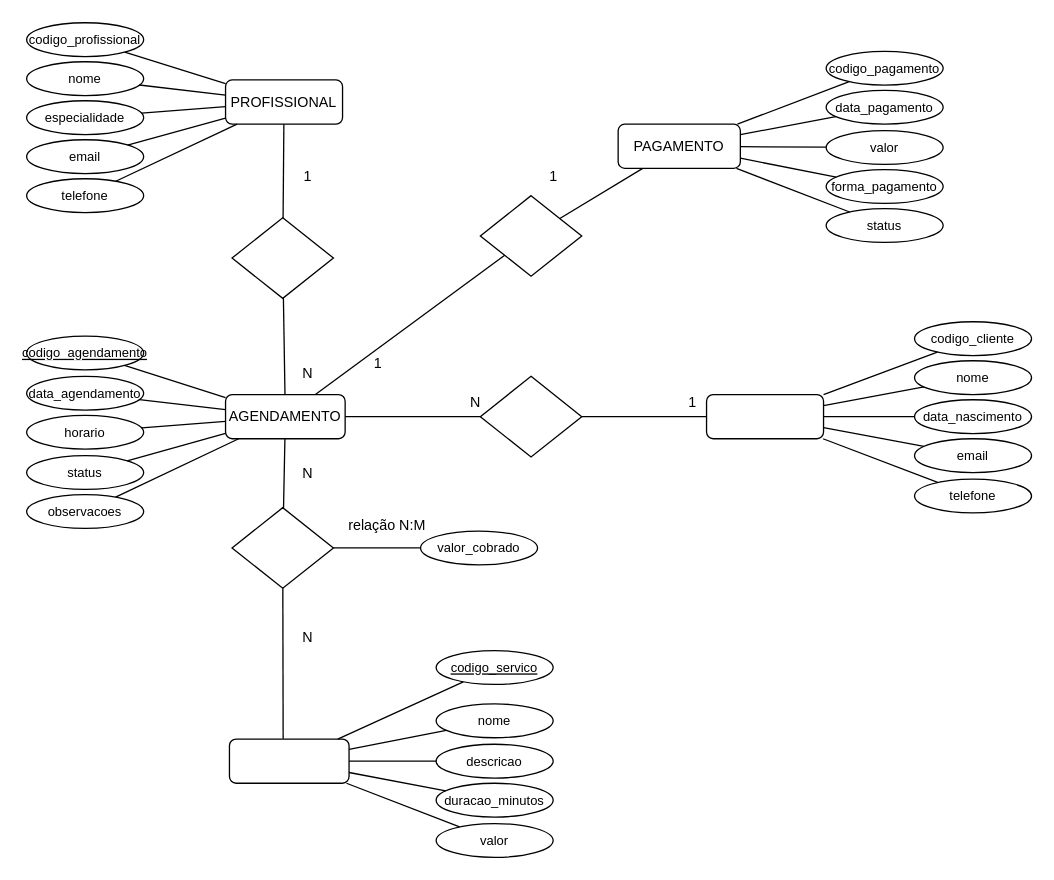
This 1054x880 diagram has some shape labels left out. The shapes that lost their labels are listed below. From the top down, each one's centre as x and y in pixels, then its label:
At pixel 530 235: "GERA".
At pixel 282 257: "ATENDE".
At pixel 530 416: "REALIZA".
At pixel 764 416: "CLIENTE".
At pixel 282 547: "INCLUI".
At pixel 288 760: "SERVICO".
